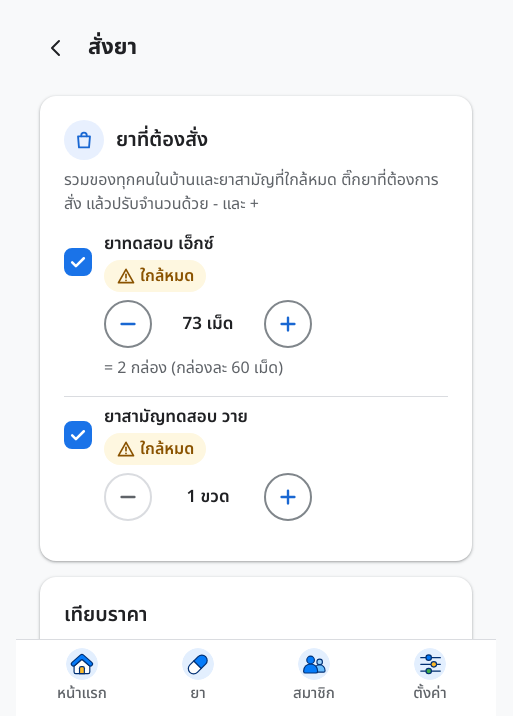
example A: + on Y once (2 bottles), shipping included › each shop says pick-up / delivery and the delivery fee in words; ข says "ซื้อเพิ่มอีก ฿200 ส่งฟรี"
This screenshot has width=513, height=716.
Click the button named "เพิ่มจำนวน ยาสามัญทดสอบ วาย" at {"x": 288, "y": 497}, box [264, 473, 312, 521]
(page scrolled)
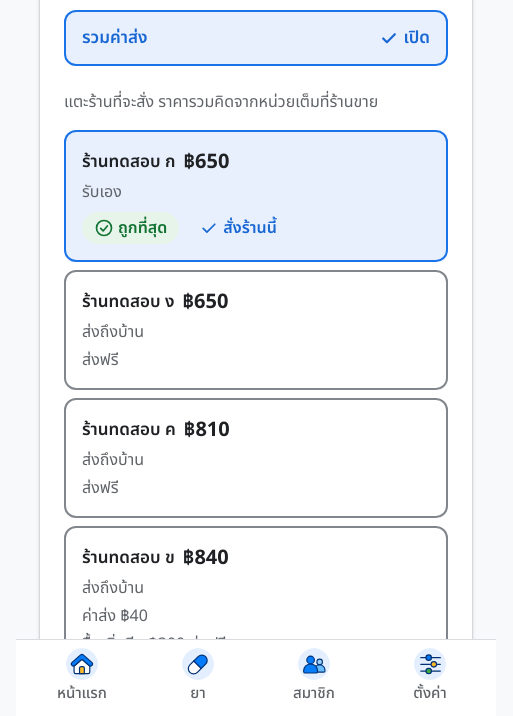
Expected: the text "รับเอง" is shown, [82, 180, 122, 204]
Expected: the text "ซื้อเพิ่มอีก ฿200 ส่งฟรี" is shown, [82, 632, 226, 656]
Expected: the 1st text "ส่งฟรี" is shown, [82, 348, 118, 372]
